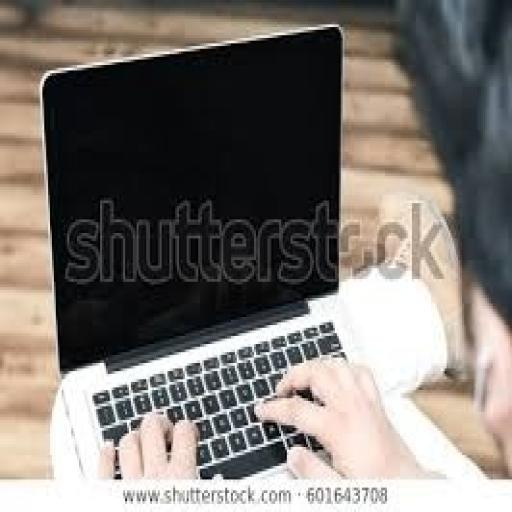using_laptop: (36, 19, 364, 482)
